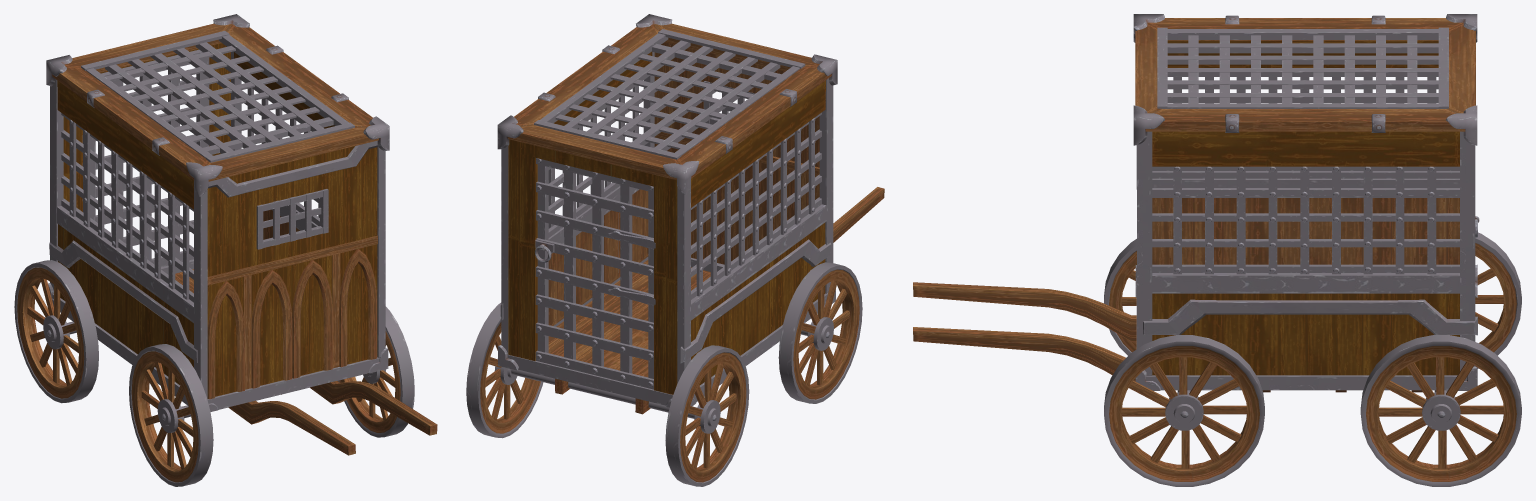
The model's file is Wagon.gltf.
The picture shows the model from 3 angles, left to right: view 1: azimuth 30°, elevation 25°; view 2: azimuth 150°, elevation 25°; view 3: azimuth 270°, elevation 25°; orthographic projection. The views are drawn at different scales.
Parts seen in each view (by area): view 1: Wagon; view 2: Wagon; view 3: Wagon.
Boxes of the visible parts, box(x1,y1,x2,y2) form: Wagon: box(14, 14, 437, 486); Wagon: box(466, 14, 884, 486); Wagon: box(913, 14, 1521, 486).
Size of the model in its own units: 2.09 by 2.95 by 4.49.
2 materials, 2 textured.
